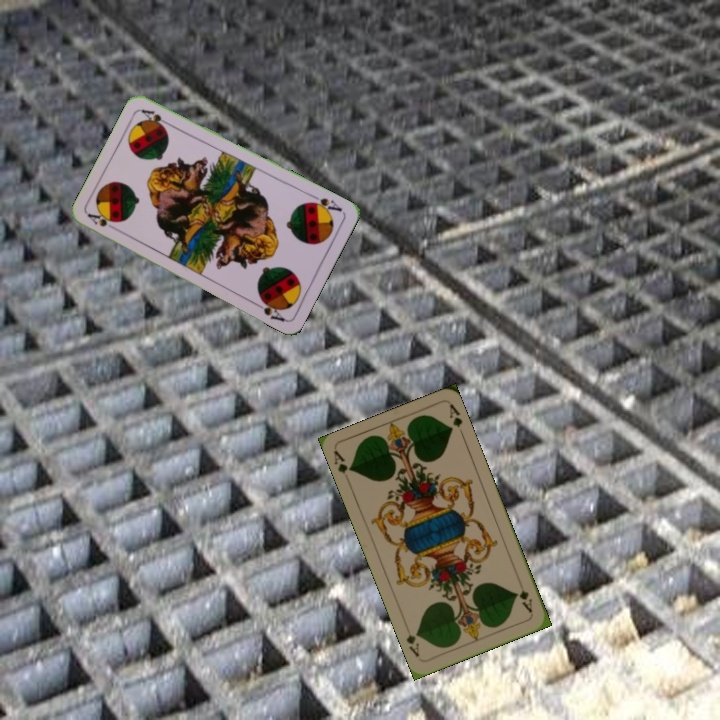GA: (513, 577, 535, 615), (330, 447, 355, 477)
SA: (304, 190, 345, 217), (84, 209, 119, 229)
